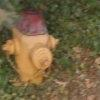a fire hydrant: (3, 11, 60, 89)
